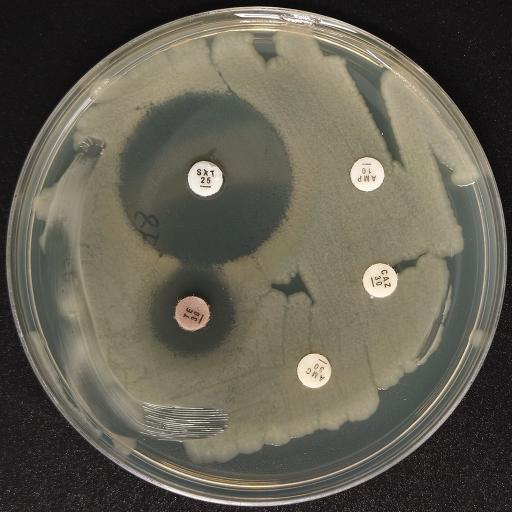disc: (188, 161, 223, 196), (363, 263, 398, 297), (175, 297, 210, 331), (350, 157, 384, 191), (297, 354, 331, 388)
